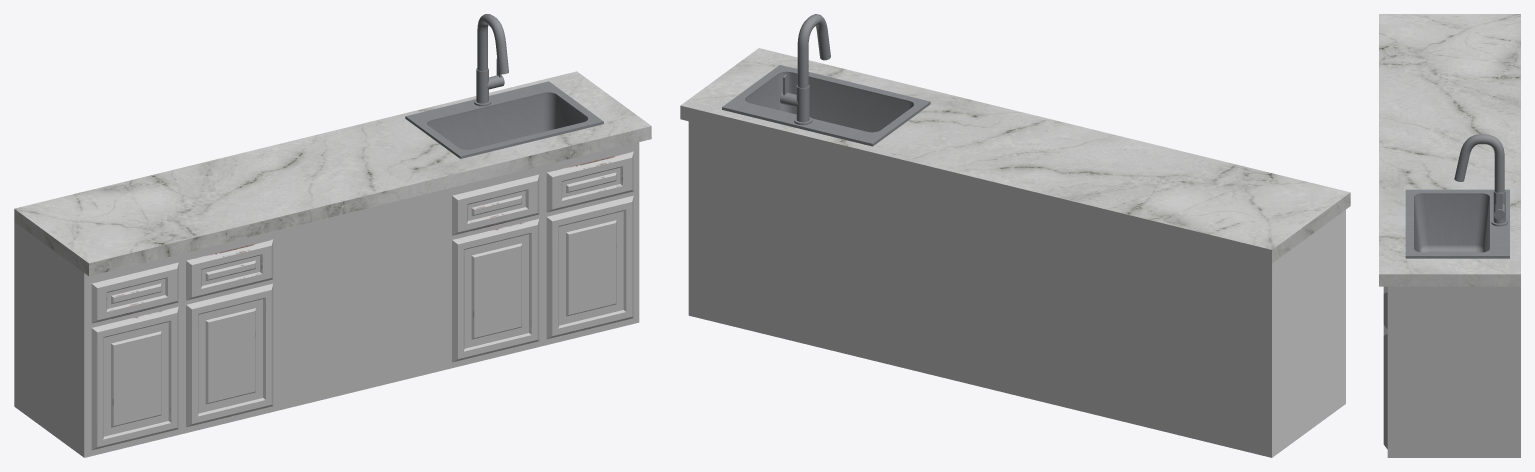
The model's file is Sink Countertop.fbx.
3 views of the same model, side by side, from view 1: azimuth 30°, elevation 25°; view 2: azimuth 150°, elevation 25°; view 3: azimuth 270°, elevation 25° (orthographic). The views are drawn at different scales.
Parts seen in each view (by area): view 1: Sink Counter Top; view 2: Sink Counter Top; view 3: Sink Counter Top.
Boxes of the visible parts, x1=… form: Sink Counter Top: x1=14, y1=14, x2=651, y2=457; Sink Counter Top: x1=680, y1=14, x2=1350, y2=457; Sink Counter Top: x1=1379, y1=14, x2=1520, y2=457.
Size of the model in its own units: 370 by 184 by 85.15.
